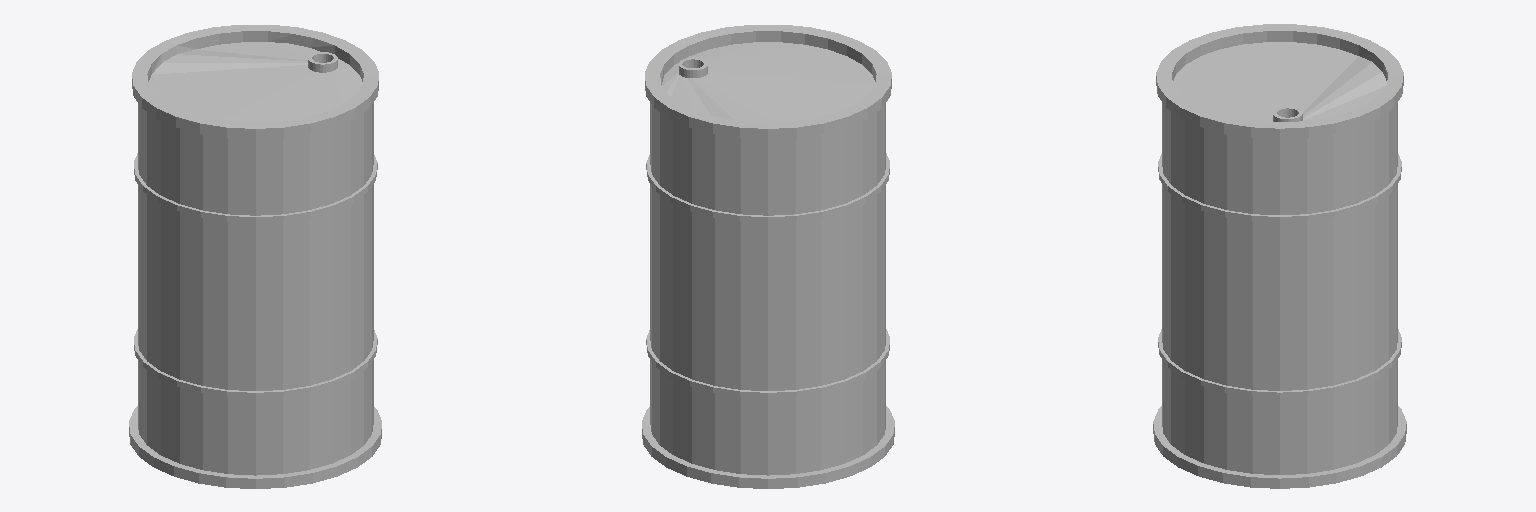
Rendered from oil barrel.obj.
3 renders of one model, left to right at view 1: azimuth 30°, elevation 25°; view 2: azimuth 150°, elevation 25°; view 3: azimuth 270°, elevation 25°, orthographic.
Visible parts, largest first — view 1: pCylinder1; view 2: pCylinder1; view 3: pCylinder1.
Part boxes in pixels (left/top/right/bottom): pCylinder1: left=129, top=25, right=381, bottom=488; pCylinder1: left=642, top=25, right=894, bottom=488; pCylinder1: left=1153, top=24, right=1406, bottom=488.
Size of the model in its own units: 10.55 by 16.5 by 10.57.